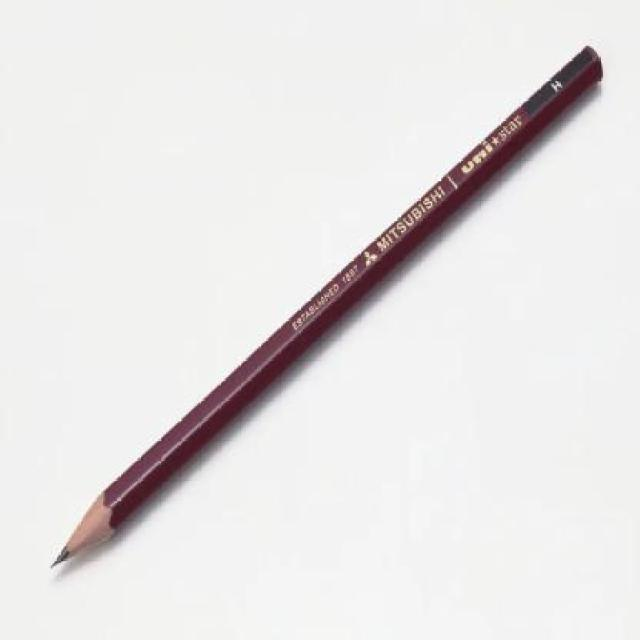pencil: (31, 29, 614, 598)
